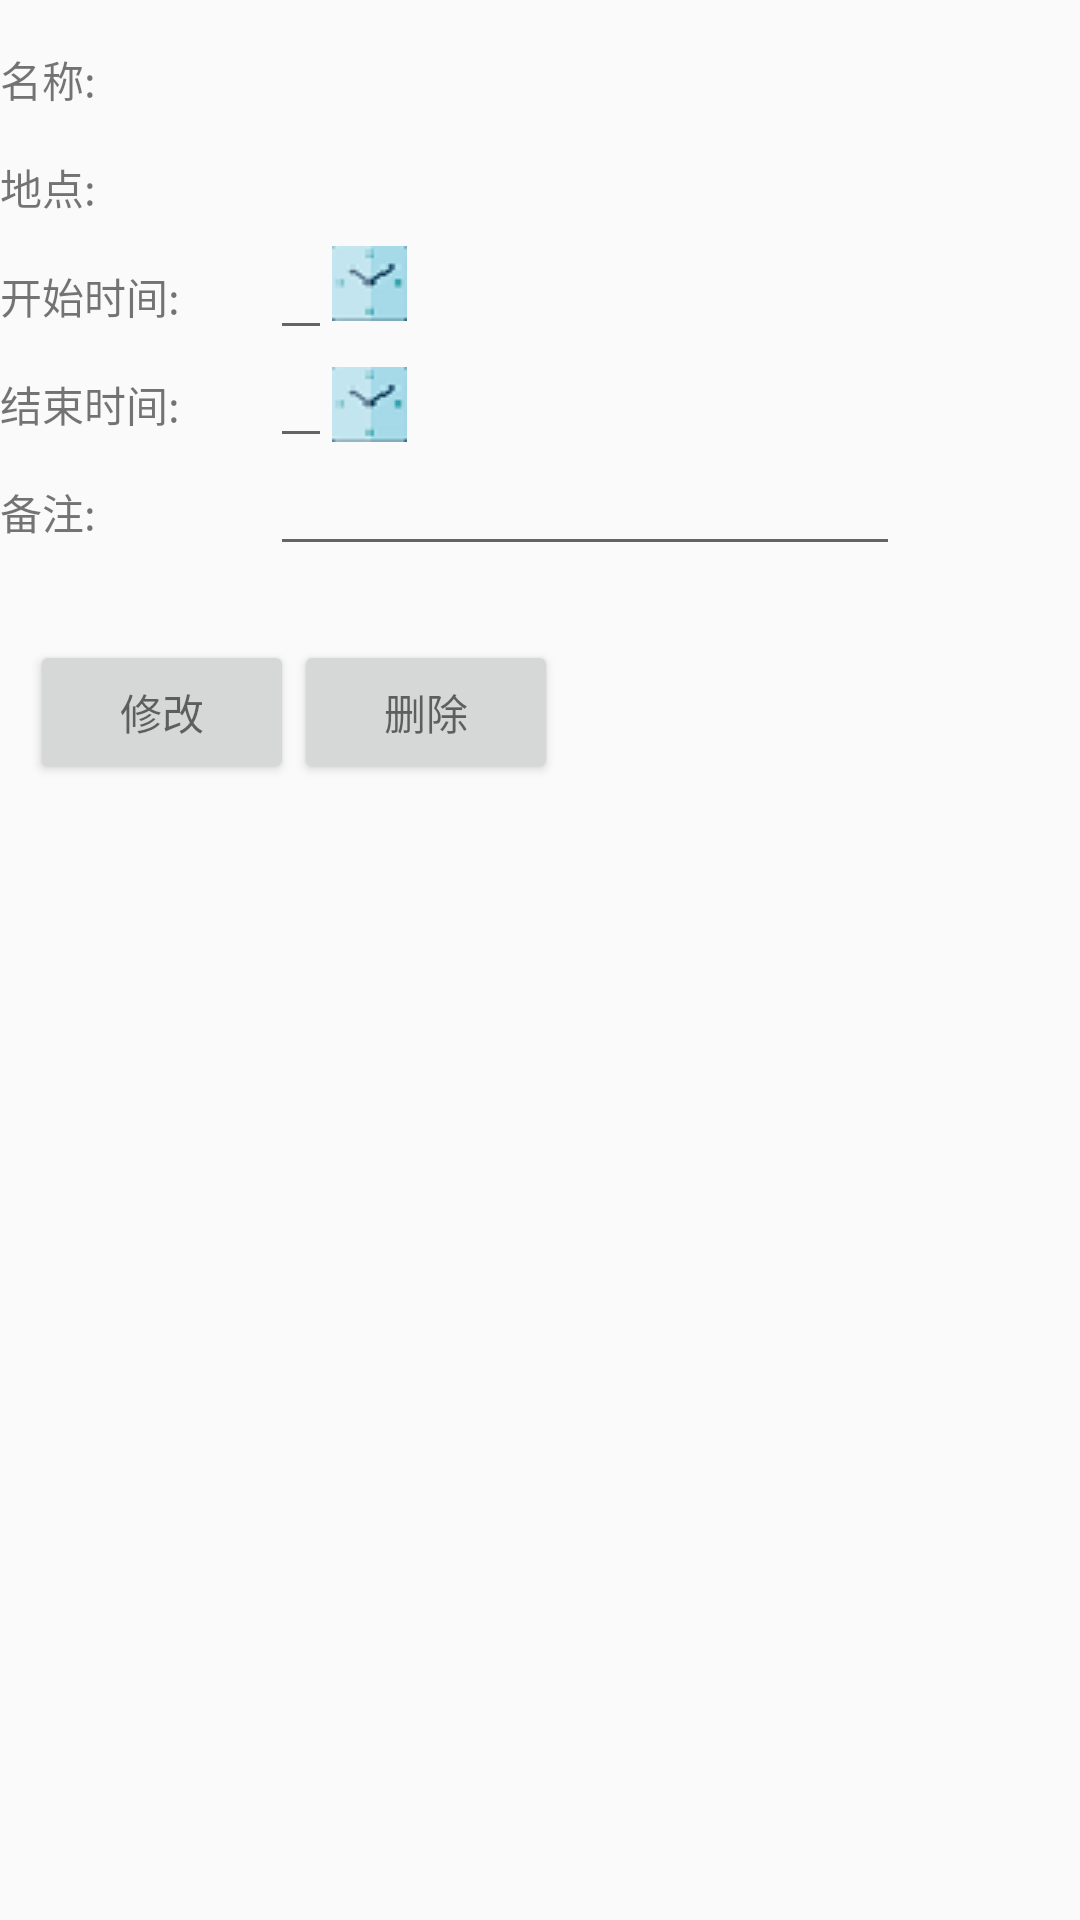

Named icons in this screenshot (1080w x 1920h) and their centers, point (x, y):
time picker: point (369, 283), point (369, 404)
